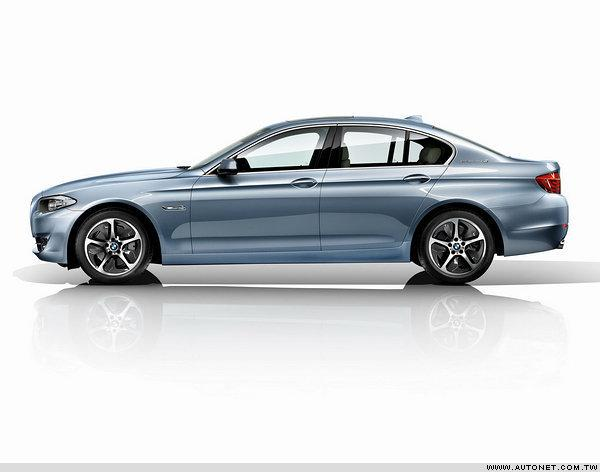Sedan: (29, 112, 569, 286)
